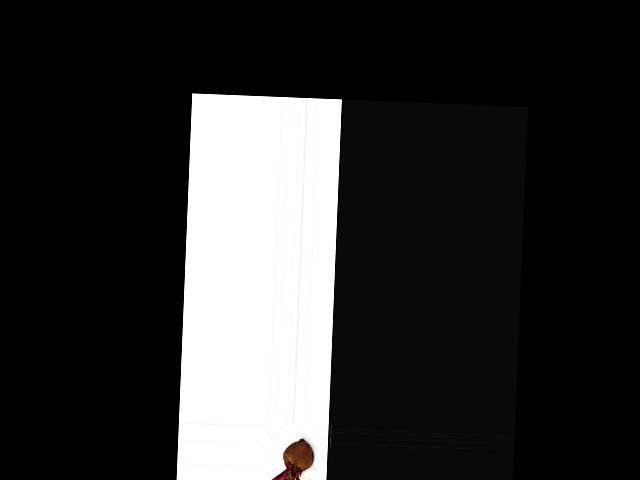beet: (271, 437, 314, 480)
